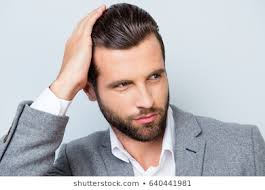white_male: (76, 23, 174, 140)
